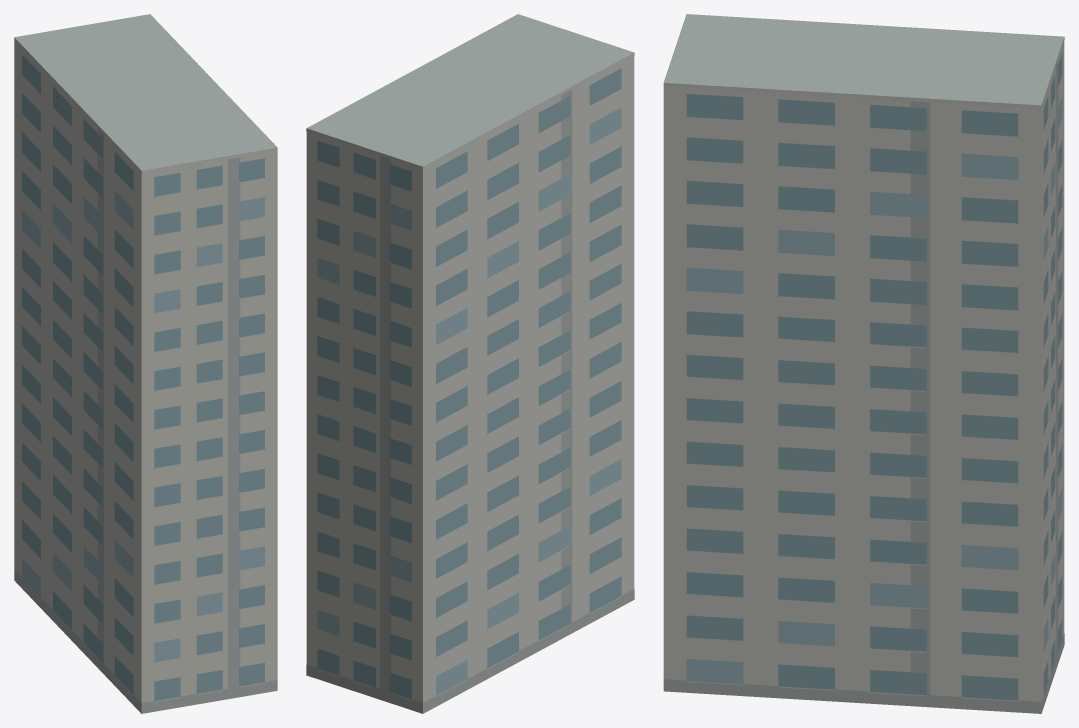
The model's file is residential-bbed3033-027d-4b3c-adeb-6d57852f2de4.glb.
3 renders of one model, left to right at view 1: azimuth 30°, elevation 25°; view 2: azimuth 150°, elevation 25°; view 3: azimuth 270°, elevation 25°, orthographic. The views are drawn at different scales.
Visible parts, largest first — view 1: residential-bbed3033-027d-4b3c-adeb-6d57852f2de4.tmp; view 2: residential-bbed3033-027d-4b3c-adeb-6d57852f2de4.tmp; view 3: residential-bbed3033-027d-4b3c-adeb-6d57852f2de4.tmp.
Part boxes in pixels (x1,y1,x2,y2): residential-bbed3033-027d-4b3c-adeb-6d57852f2de4.tmp: (14, 14, 277, 713); residential-bbed3033-027d-4b3c-adeb-6d57852f2de4.tmp: (306, 14, 634, 713); residential-bbed3033-027d-4b3c-adeb-6d57852f2de4.tmp: (663, 14, 1064, 713).
Bounding box in the file's own units: 13.21 × 41 × 24.49.
